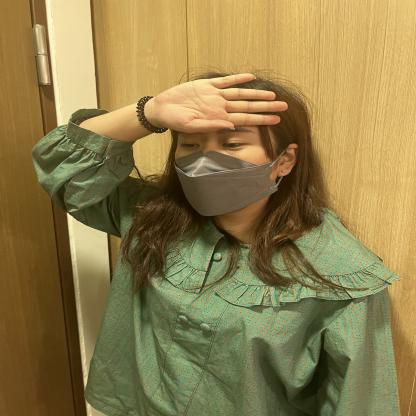Sick: (47, 39, 307, 161)
